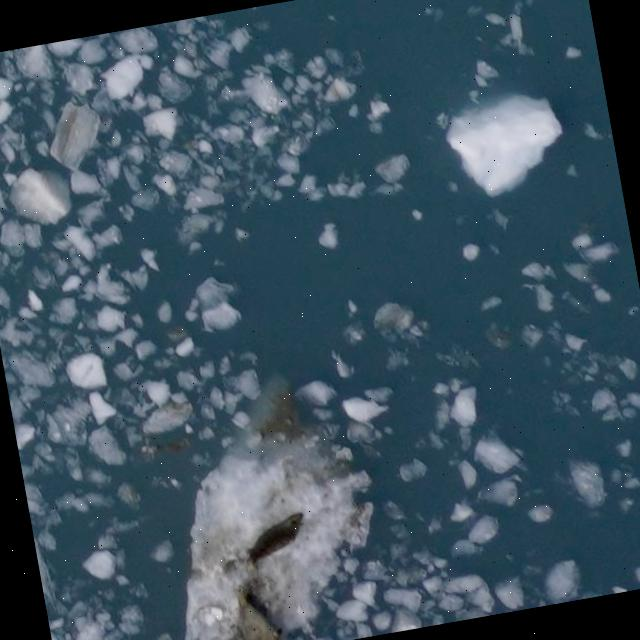seal: (236, 505, 315, 573), (216, 582, 291, 640)
